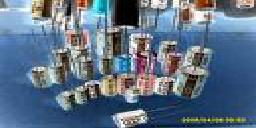Electrolytic-Capacitor: (171, 37, 208, 107), (104, 106, 191, 128)
